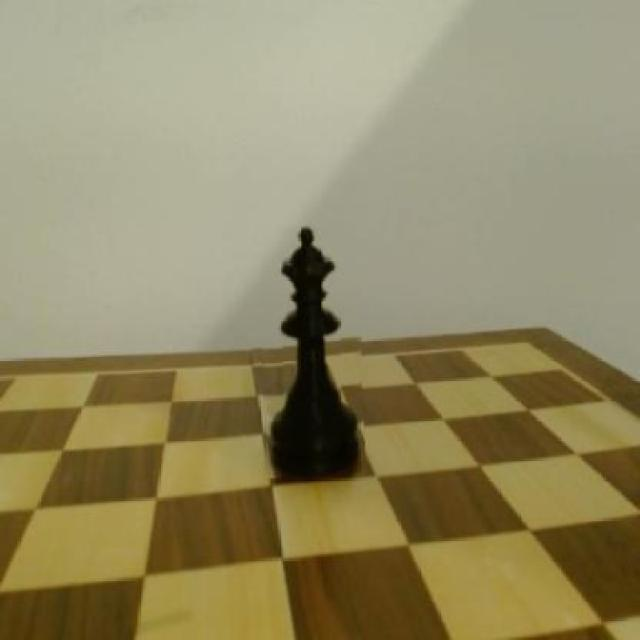black-pawn: (260, 226, 364, 479)
